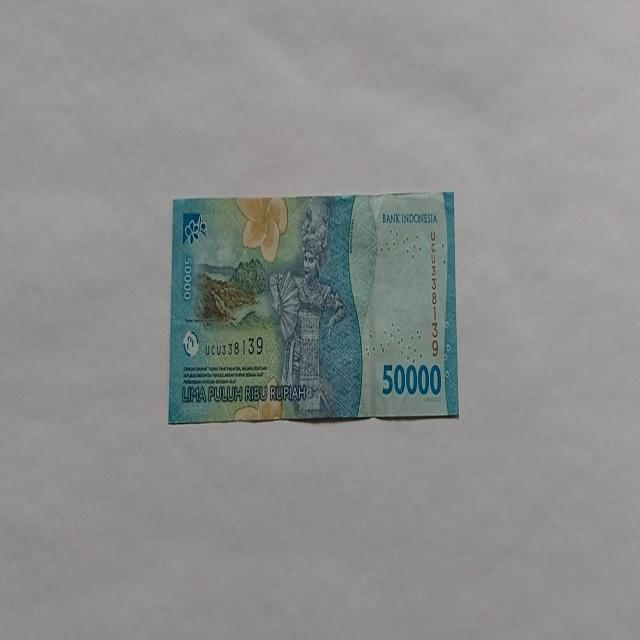lima puluh ribu rupiah: (168, 190, 460, 424)
